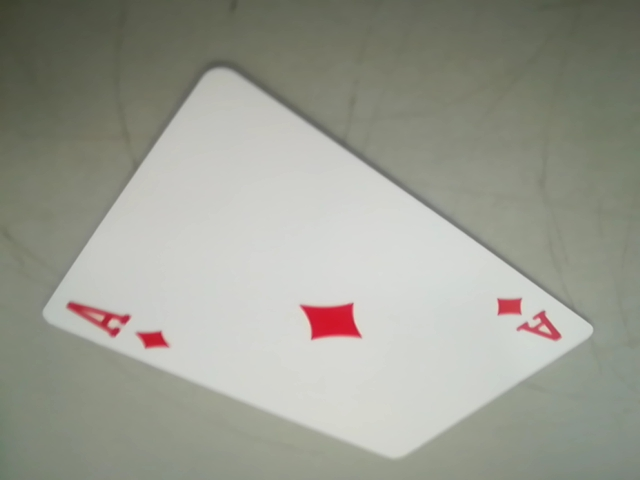fk a: (57, 296, 181, 352), (493, 287, 573, 350)
